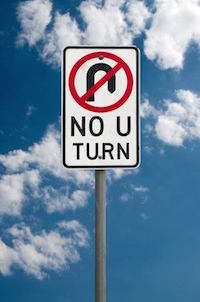No_u_turn: (68, 51, 133, 113)
